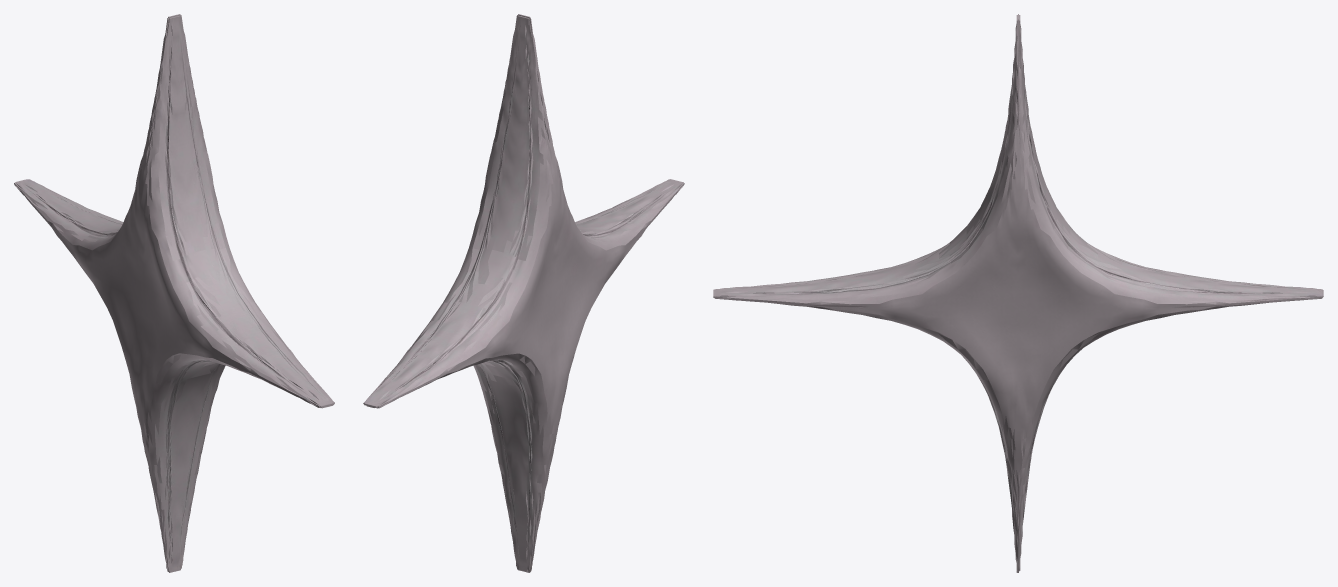
File: star.glb
3 renders of one model, left to right at view 1: azimuth 30°, elevation 25°; view 2: azimuth 150°, elevation 25°; view 3: azimuth 270°, elevation 25°, orthographic.
Visible parts, largest first — view 1: tripo_node_34e3f944-1b96-4d22-86bd-ed1c8fdb3bd1; view 2: tripo_node_34e3f944-1b96-4d22-86bd-ed1c8fdb3bd1; view 3: tripo_node_34e3f944-1b96-4d22-86bd-ed1c8fdb3bd1.
Boxes of the visible parts, left/top/right/bottom form: tripo_node_34e3f944-1b96-4d22-86bd-ed1c8fdb3bd1: left=14, top=14, right=334, bottom=572; tripo_node_34e3f944-1b96-4d22-86bd-ed1c8fdb3bd1: left=363, top=14, right=684, bottom=572; tripo_node_34e3f944-1b96-4d22-86bd-ed1c8fdb3bd1: left=713, top=14, right=1323, bottom=572.
Bounding box in the file's own units: 0.1311 × 1 × 1.
1 material, 1 textured.
